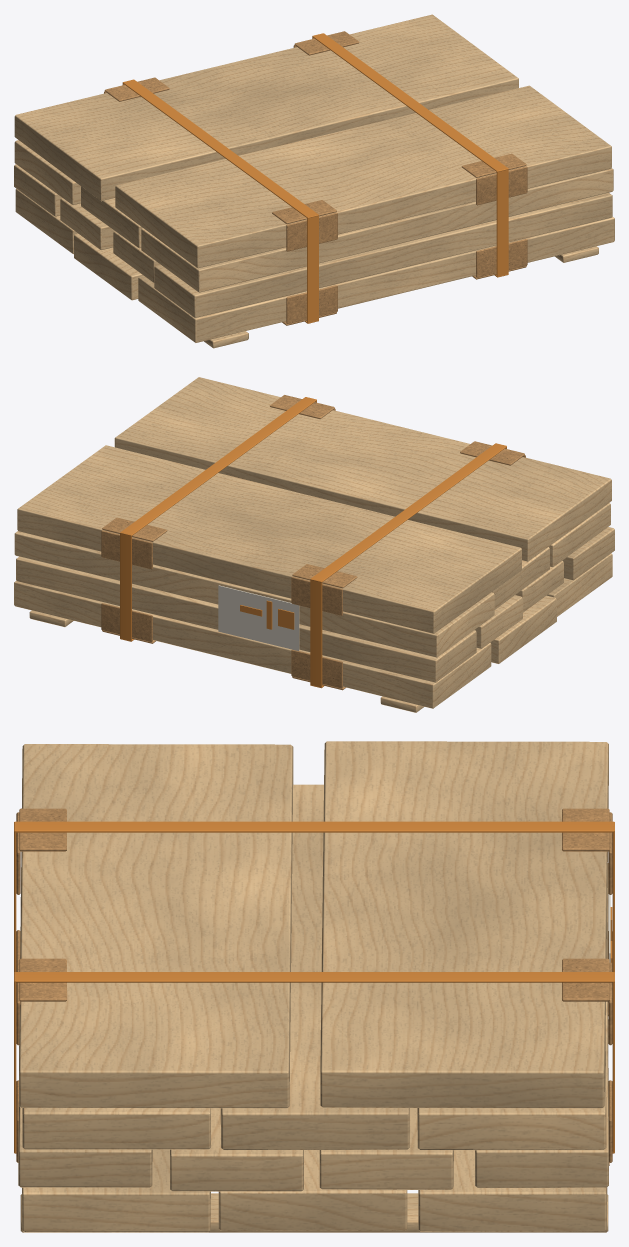
File: Holzpaket01.fbx
3 renders of one model, top to bottom at view 1: azimuth 30°, elevation 25°; view 2: azimuth 150°, elevation 25°; view 3: azimuth 270°, elevation 25°, orthographic. The views are drawn at different scales.
Parts seen in each view (by area): view 1: Holzpaket01__WoodRaw, Holzpaket01__SafetyOrange, Holzpaket01__Cardboard; view 2: Holzpaket01__WoodRaw, Holzpaket01__SafetyOrange, Holzpaket01__Cardboard, Holzpaket01__WallWhite; view 3: Holzpaket01__WoodRaw, Holzpaket01__SafetyOrange, Holzpaket01__Cardboard.
Boxes of the visible parts, x1,y1,x2,y2 form: Holzpaket01__WoodRaw: [14, 14, 614, 348]; Holzpaket01__SafetyOrange: [122, 33, 508, 323]; Holzpaket01__Cardboard: [104, 31, 527, 325]; Holzpaket01__WoodRaw: [14, 377, 614, 712]; Holzpaket01__SafetyOrange: [120, 397, 506, 688]; Holzpaket01__Cardboard: [101, 395, 525, 690]; Holzpaket01__WallWhite: [218, 585, 299, 650]; Holzpaket01__WoodRaw: [18, 741, 608, 1232]; Holzpaket01__SafetyOrange: [14, 821, 614, 1153]; Holzpaket01__Cardboard: [16, 808, 612, 1165].
Bounding box in the file's own units: 58.33 × 14.48 × 43.96.
Materials: 4 (2 with a texture image).
